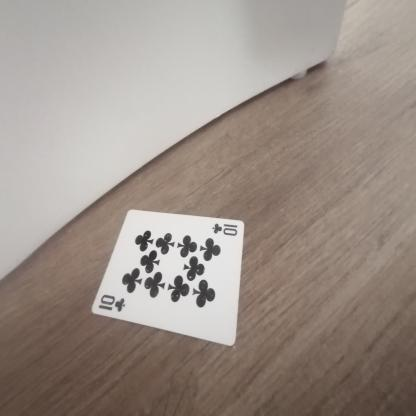10C: (202, 216, 249, 240), (96, 290, 128, 314)
